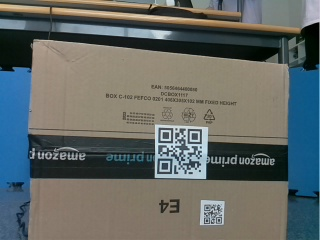caja: (28, 37, 287, 239)
